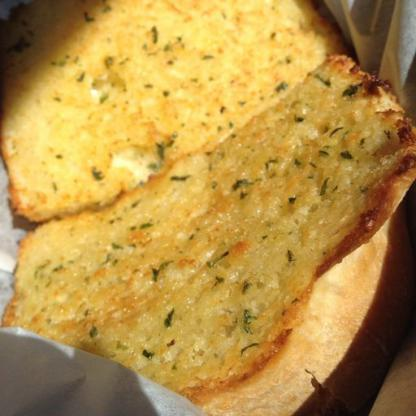toast bread: (18, 58, 415, 400), (0, 0, 333, 232)
